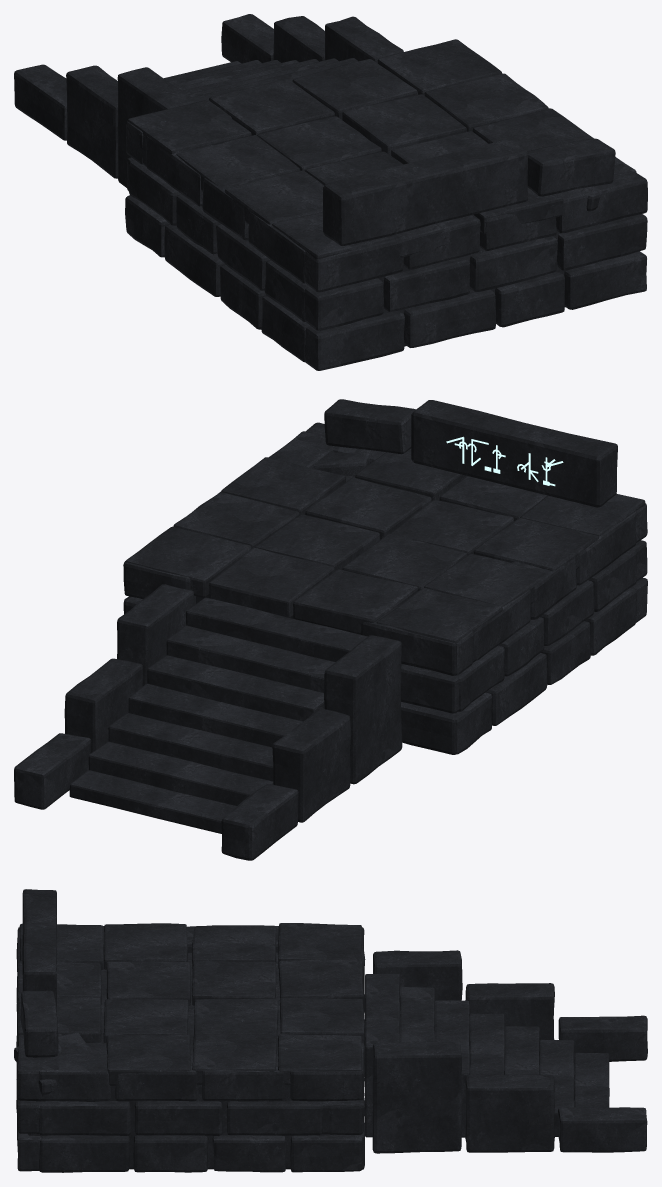
Rendered from Ruina_Escadaria.fbx.
3 renders of one model, top to bottom at view 1: azimuth 30°, elevation 25°; view 2: azimuth 150°, elevation 25°; view 3: azimuth 270°, elevation 25°, orthographic. The views are drawn at different scales.
Visible parts, largest first — view 1: Ruina_Escadaria_LOD0; view 2: Ruina_Escadaria_LOD0; view 3: Ruina_Escadaria_LOD0.
Boxes of the visible parts, x1,y1,x2,y2 form: Ruina_Escadaria_LOD0: [14, 14, 647, 370]; Ruina_Escadaria_LOD0: [14, 399, 647, 860]; Ruina_Escadaria_LOD0: [14, 889, 647, 1172].
Size of what is drawn, in the model's own units: 6.06 by 2.9 by 10.91.
